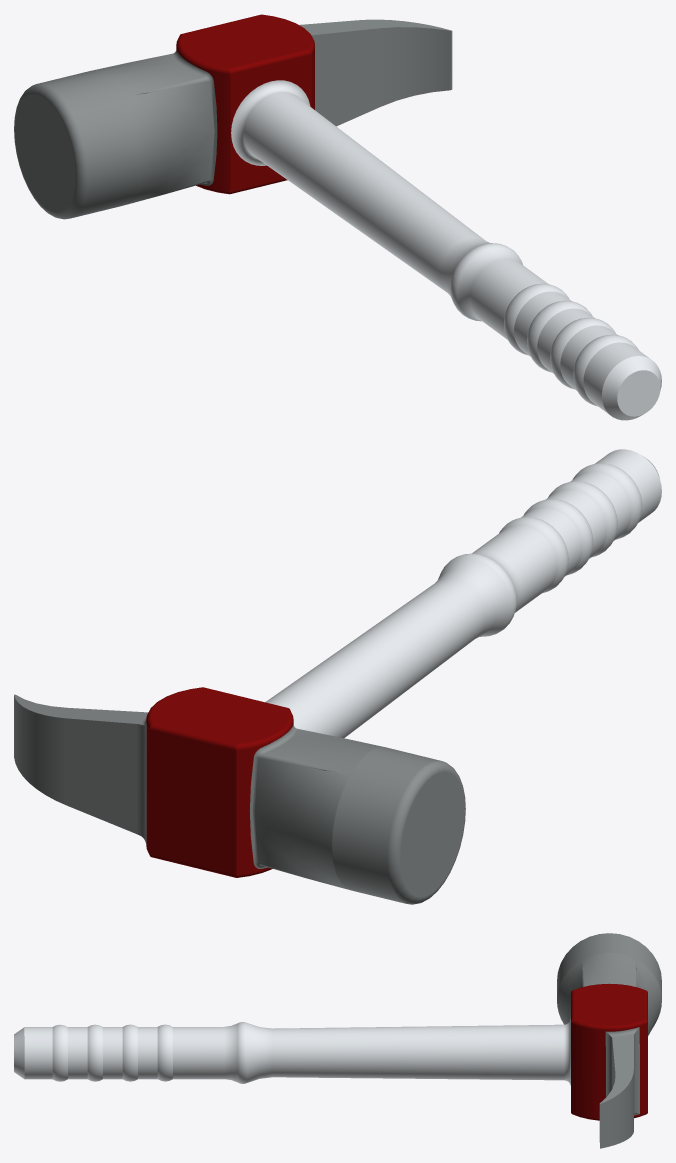
The picture shows the model from 3 angles, top to bottom: view 1: azimuth 30°, elevation 25°; view 2: azimuth 150°, elevation 25°; view 3: azimuth 270°, elevation 25°; orthographic projection. The views are drawn at different scales.
Parts seen in each view (by area): view 1: Hammer-2.001, Hammer.002, Hammer-1.001; view 2: Hammer-2.001, Hammer.002, Hammer-1.001; view 3: Hammer.002, Hammer-2.001, Hammer-1.001.
Part boxes in pixels (x1,y1,x2,y2): Hammer-2.001: (14,19,452,219); Hammer.002: (231,80,661,420); Hammer-1.001: (176,14,314,194); Hammer-2.001: (14,694,465,904); Hammer.002: (265,449,661,737); Hammer-1.001: (146,687,293,877); Hammer.002: (14,1018,570,1085); Hammer-2.001: (557,933,661,1148); Hammer-1.001: (571,983,647,1120).
Size of the model in its own units: 0.6021 by 0.1808 by 1.11.
